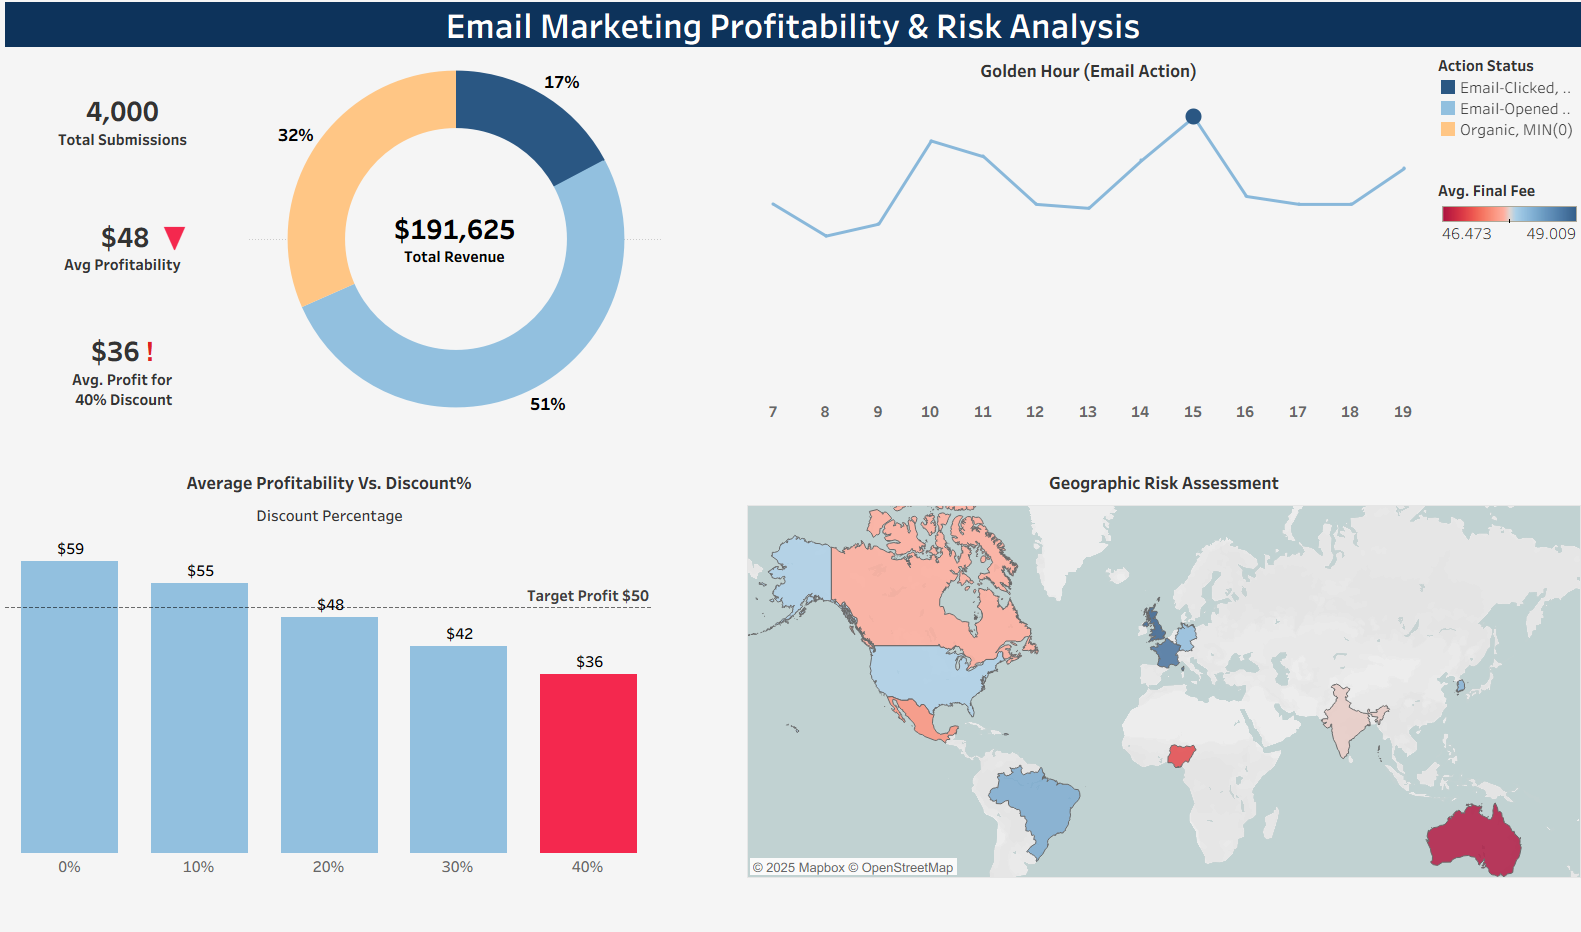

What the dashboard file says about the page in this screenshot:
{"tool":"tableau","page":{"name":"Email Marketing Dashboard","canvas":[1600,900],"ordinal":0},"visuals":[{"type":"title","box":[8,8,1584,53]},{"type":"worksheet","title":"Submission Count","mark":"Automatic","box":[8,61,244,126]},{"type":"worksheet","title":"ROI Visual","mark":"Pie","rows":["Calculation_503840211762515973","Calculation_503840211762802695"],"box":[252,61,422,376]},{"type":"worksheet","title":"Golden Hour","mark":"Line","rows":["Email_Status","Email_Status"],"cols":["Email_Hour"],"box":[749.9,61,691,376]},{"type":"legend","title":"ROI Visual","param":"[federated.1b1g5oo10uoctd18ah2h501risnn].[none:Calculation_503840211753828352:nk","box":[1440.9,61,151.1,93]},{"type":"blank","box":[1440.9,154,151.1,32]},{"type":"legend","title":"Geographic Risk Assessment","param":"[federated.1b1g5oo10uoctd18ah2h501risnn].[avg:Final_Fee:qk]","box":[1440.9,186,151.1,73]},{"type":"worksheet","title":"avg profitability","mark":"Automatic","box":[8,187,244,125]},{"type":"worksheet","title":"trend symbol","mark":"Automatic","box":[154,214,51,82]},{"type":"worksheet","title":"Avg profit for 40%","mark":"Automatic","box":[8,312,244,125]},{"type":"blank","box":[8,437,1584,36]},{"type":"worksheet","title":"avg profitability vs. discount %","mark":"Automatic","rows":["Final_Fee"],"cols":["Discount_Percentage"],"box":[8,473.1,655.9,418.9]},{"type":"blank","box":[663.9,473.1,86,418.9]},{"type":"worksheet","title":"Geographic Risk Assessment","mark":"Automatic","box":[749.9,473.1,842.1,418.9]}]}

Visuals, with their boxes on the page's 1600x900 design canvas (x1, y1, x2, y2). These are canvas units, not pixel positions in the 1581x932 screenshot, which may show the page scaled, cropped or inside an application window:
title: 8,8,1592,61
"Submission Count" worksheet: 8,61,252,187
"ROI Visual" worksheet (Pie marks): 252,61,674,437
"Golden Hour" worksheet (Line marks): 750,61,1441,437
"ROI Visual" legend: 1441,61,1592,154
blank: 1441,154,1592,186
"Geographic Risk Assessment" legend: 1441,186,1592,259
"avg profitability" worksheet: 8,187,252,312
"trend symbol" worksheet: 154,214,205,296
"Avg profit for 40%" worksheet: 8,312,252,437
blank: 8,437,1592,473
"avg profitability vs. discount %" worksheet: 8,473,664,892
blank: 664,473,750,892
"Geographic Risk Assessment" worksheet: 750,473,1592,892
